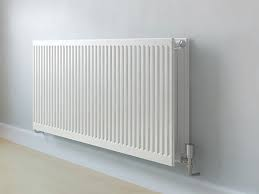Radiator: (32, 37, 197, 175)
